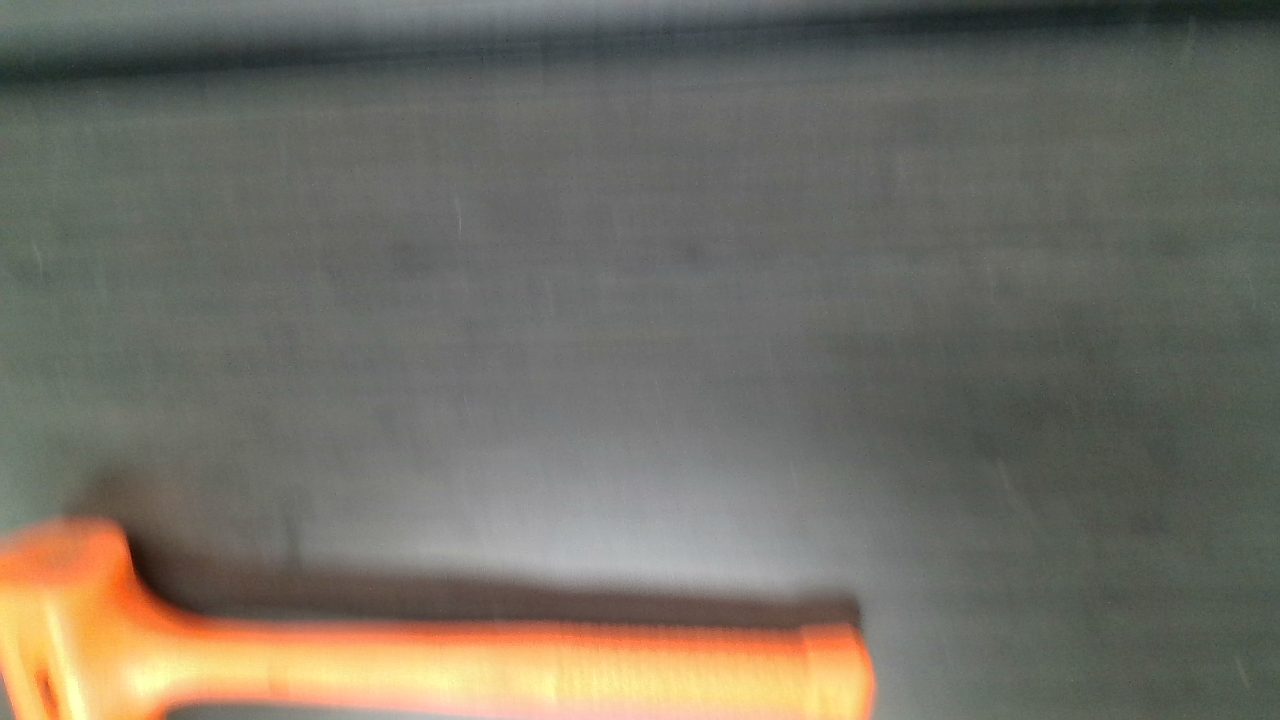Orange Hammer: (6, 511, 878, 718)
